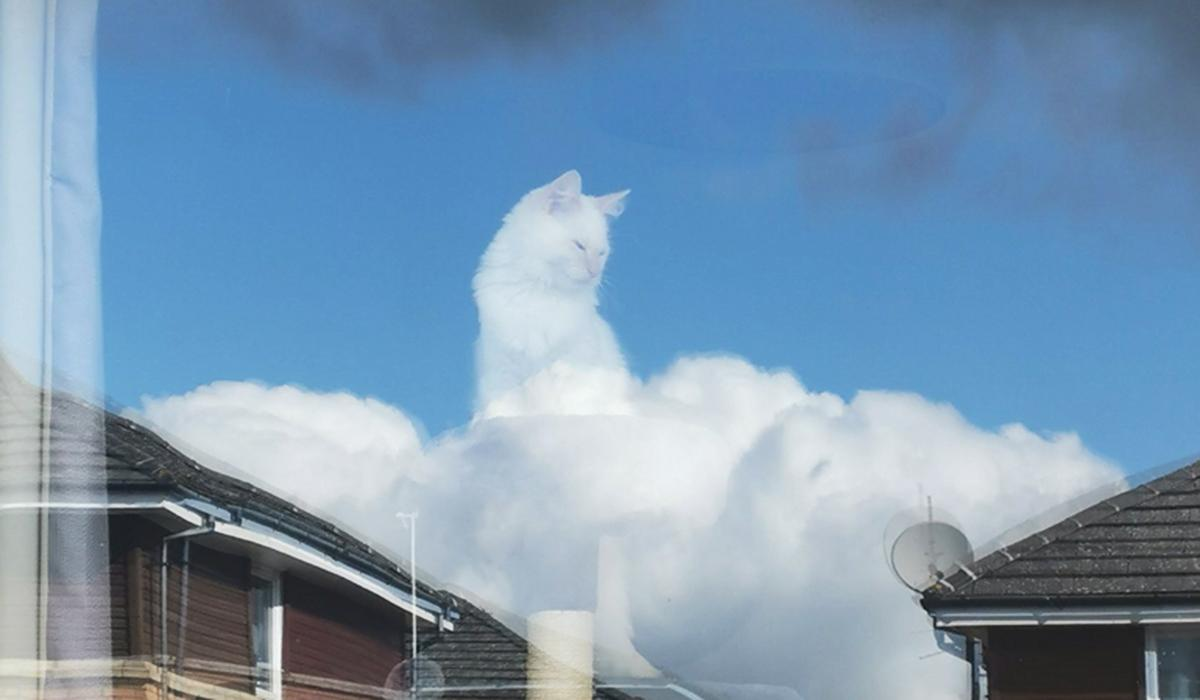animal: (439, 133, 696, 484)
